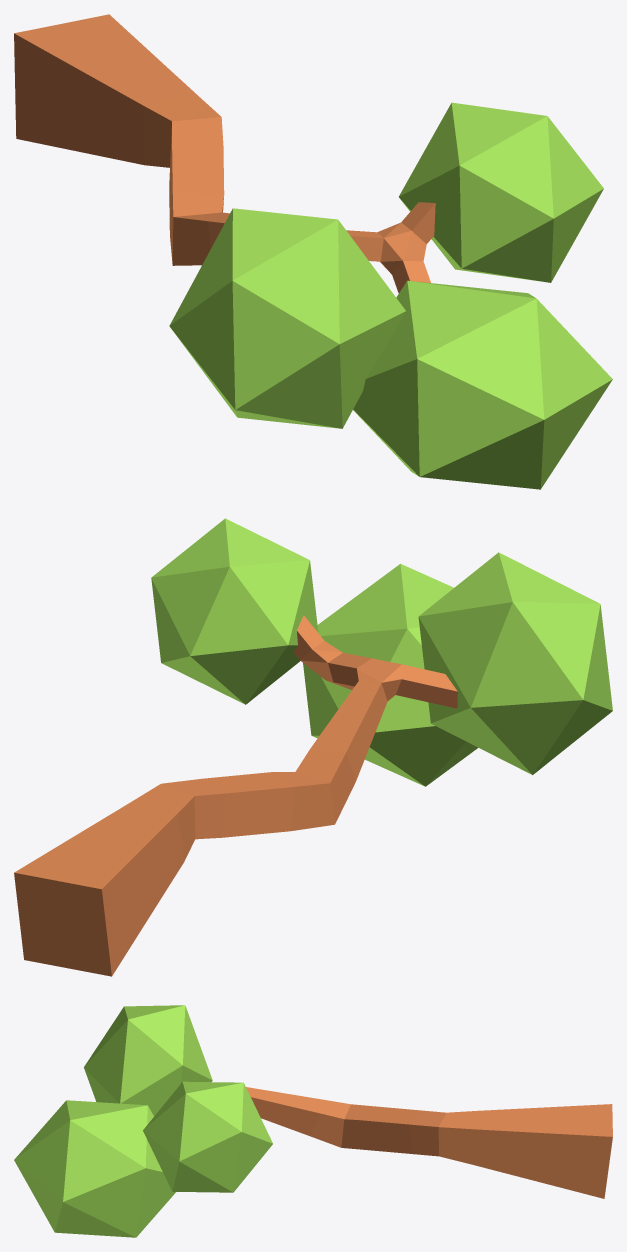
Rendered from arvoreFINALFINAL.fbx.
The picture shows the model from 3 angles, top to bottom: view 1: azimuth 30°, elevation 25°; view 2: azimuth 150°, elevation 25°; view 3: azimuth 270°, elevation 25°; orthographic projection. The views are drawn at different scales.
Visible parts, largest first — view 1: Cube; view 2: Cube; view 3: Cube.
Boxes of the visible parts, box(x1,y1,x2,y2) form: Cube: box(14, 14, 612, 489); Cube: box(14, 518, 612, 976); Cube: box(14, 1005, 612, 1237).
Size of the model in its own units: 490 by 302 by 912.
